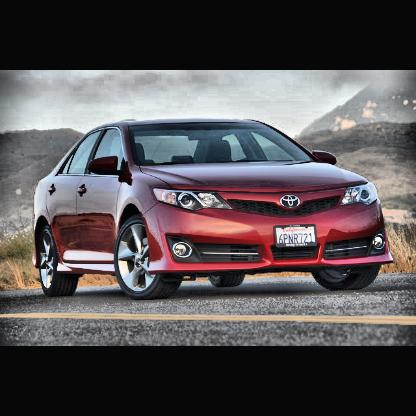Toyota Camry Sedan 2012: (34, 119, 395, 304)
